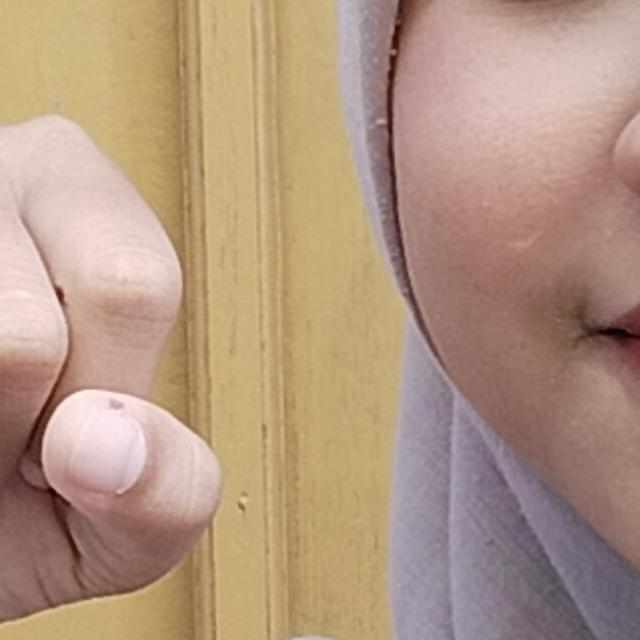baik: (0, 78, 395, 640)
